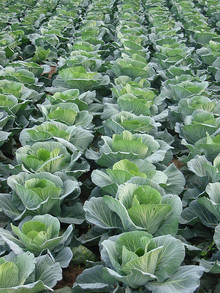cabbage: (1, 1, 217, 292)
